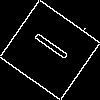I: (24, 25, 70, 62)
